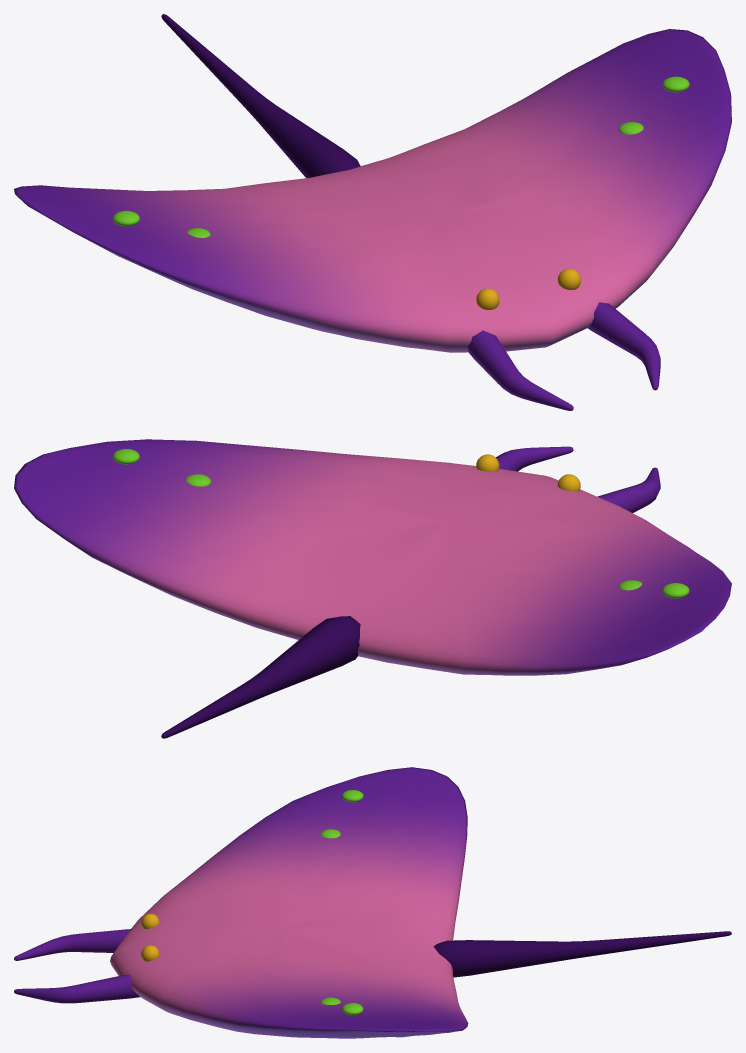
File: Enemy_FlyingCritter.fbx
The picture shows the model from 3 angles, top to bottom: view 1: azimuth 30°, elevation 25°; view 2: azimuth 150°, elevation 25°; view 3: azimuth 270°, elevation 25°; orthographic projection. The views are drawn at different scales.
Parts seen in each view (by area): view 1: Enemy_FlyingCritter; view 2: Enemy_FlyingCritter; view 3: Enemy_FlyingCritter.
Boxes of the visible parts, left/top/right/bottom form: Enemy_FlyingCritter: left=14, top=14, right=731, bottom=410; Enemy_FlyingCritter: left=14, top=439, right=731, bottom=738; Enemy_FlyingCritter: left=14, top=767, right=731, bottom=1038.
Size of the model in its own units: 2 by 0.3437 by 2.31.
